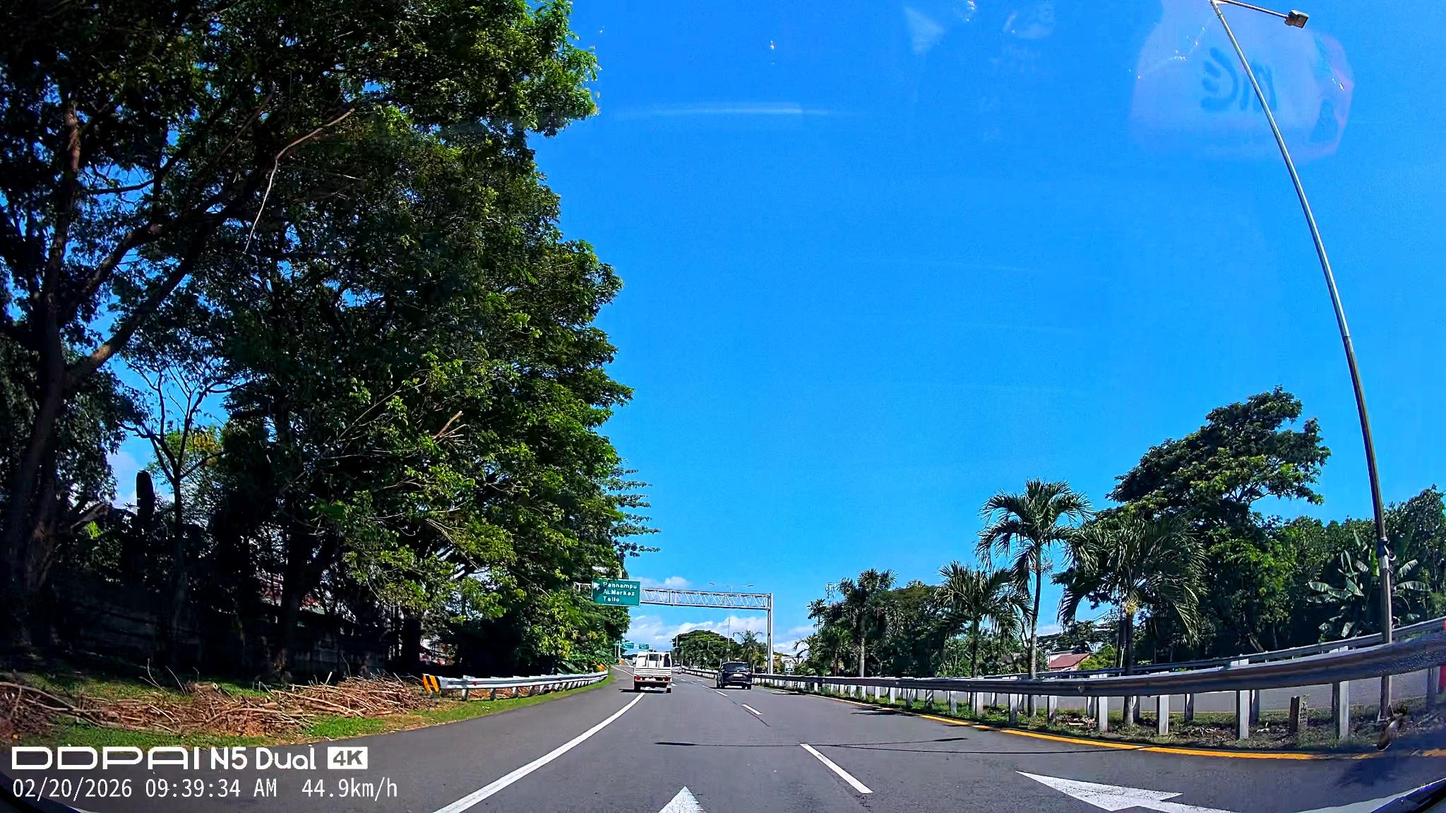rambu_teks: (591, 579, 641, 607)
